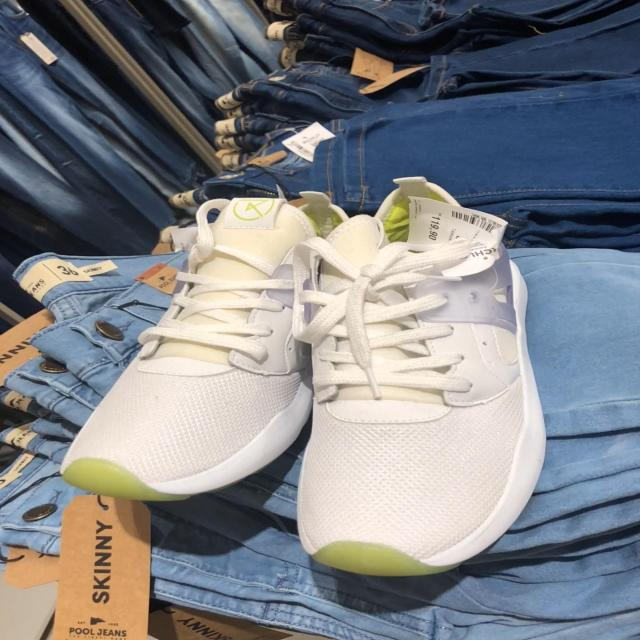shoe: (297, 178, 547, 573), (58, 190, 340, 488)
